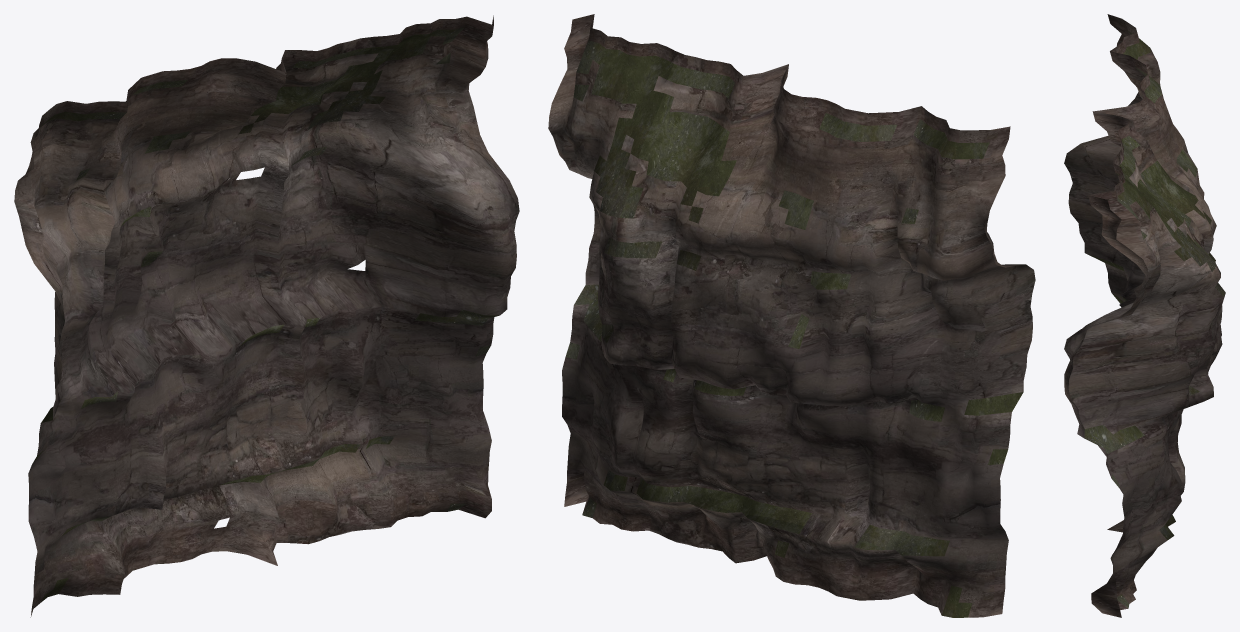
Rendered from cliff_wall_4m_deep.glb.
The picture shows the model from 3 angles, left to right: view 1: azimuth 30°, elevation 25°; view 2: azimuth 150°, elevation 25°; view 3: azimuth 270°, elevation 25°; orthographic projection. The views are drawn at different scales.
Parts seen in each view (by area): view 1: cliff_wall_4m_deep; view 2: cliff_wall_4m_deep; view 3: cliff_wall_4m_deep.
Boxes of the visible parts, left/top/right/bottom form: cliff_wall_4m_deep: left=14, top=15, right=519, bottom=617; cliff_wall_4m_deep: left=548, top=14, right=1035, bottom=617; cliff_wall_4m_deep: left=1064, top=14, right=1225, bottom=617.
Size of the model in its own units: 4 by 4.2 by 1.47.
Materials: 2 (2 with a texture image).
